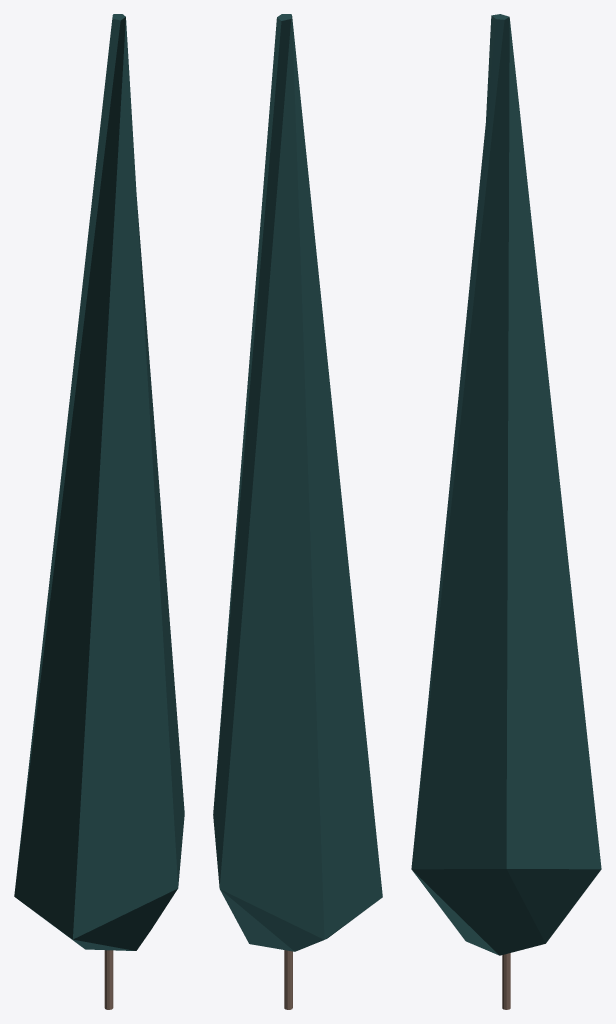
Rendered from Tree 4.fbx.
3 renders of one model, left to right at view 1: azimuth 30°, elevation 25°; view 2: azimuth 150°, elevation 25°; view 3: azimuth 270°, elevation 25°, orthographic.
Parts seen in each view (by area): view 1: pCylinder1, pCylinder2; view 2: pCylinder1, pCylinder2; view 3: pCylinder1, pCylinder2.
Part boxes in pixels (x1,y1,x2,y2): pCylinder1: (14, 14, 184, 950); pCylinder2: (104, 950, 113, 1009); pCylinder1: (213, 14, 382, 951); pCylinder2: (284, 950, 292, 1009); pCylinder1: (411, 14, 601, 955); pCylinder2: (502, 953, 510, 1009).
Size of the model in its own units: 1.64 by 10.98 by 1.9.
